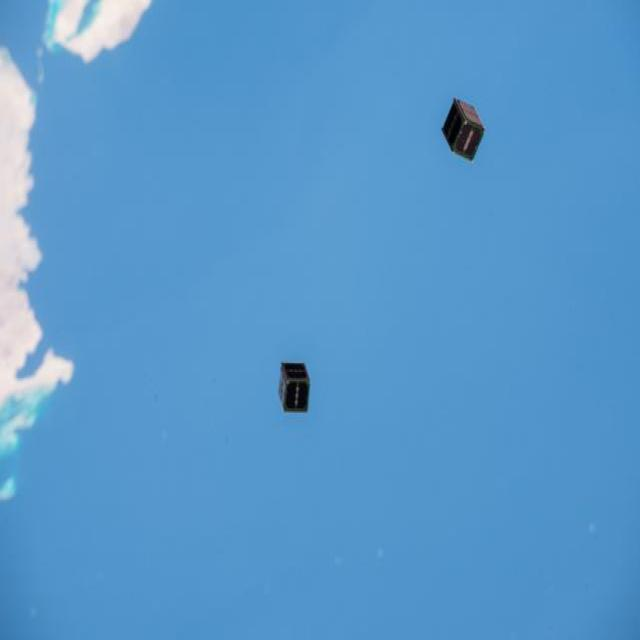satellite: (442, 98, 485, 159), (279, 363, 310, 411)
